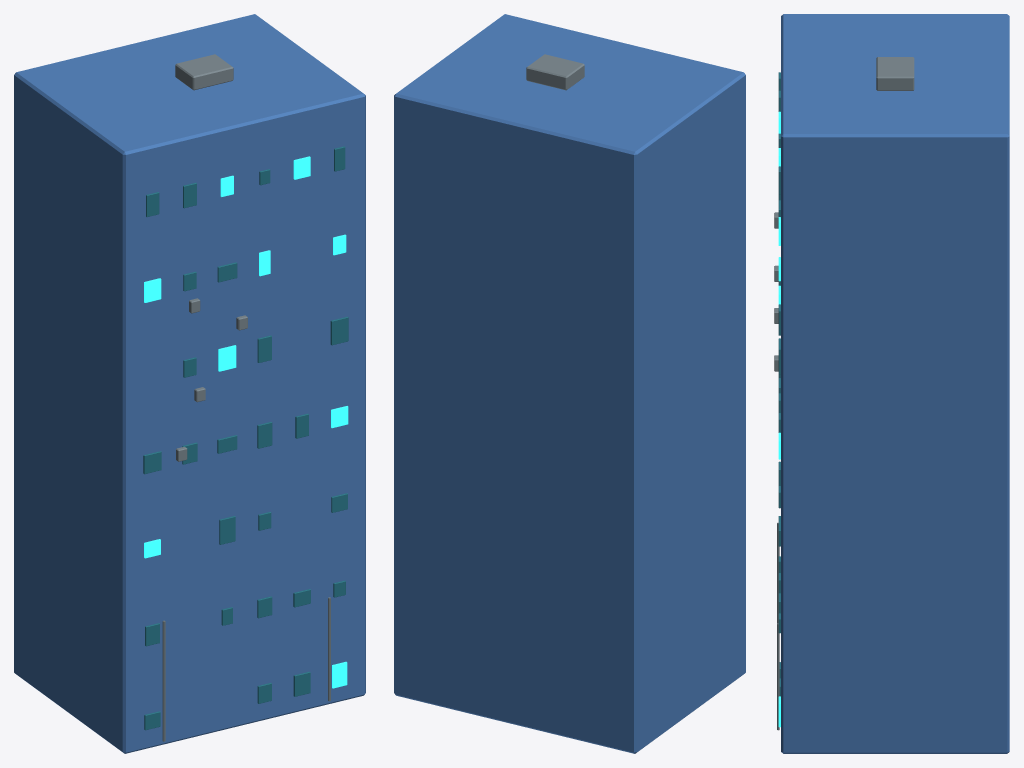
Rendered from building_026_seed11.glb.
3 renders of one model, left to right at view 1: azimuth 30°, elevation 25°; view 2: azimuth 150°, elevation 25°; view 3: azimuth 270°, elevation 25°, orthographic. The views are drawn at different scales.
Parts seen in each view (by area): view 1: building_026_seed11; view 2: building_026_seed11; view 3: building_026_seed11.
Boxes of the visible parts, x1,y1,x2,y2 form: building_026_seed11: (14, 14, 365, 753); building_026_seed11: (394, 14, 745, 753); building_026_seed11: (774, 14, 1009, 753).
Bounding box in the file's own units: 9.02 × 21.84 × 7.35.
